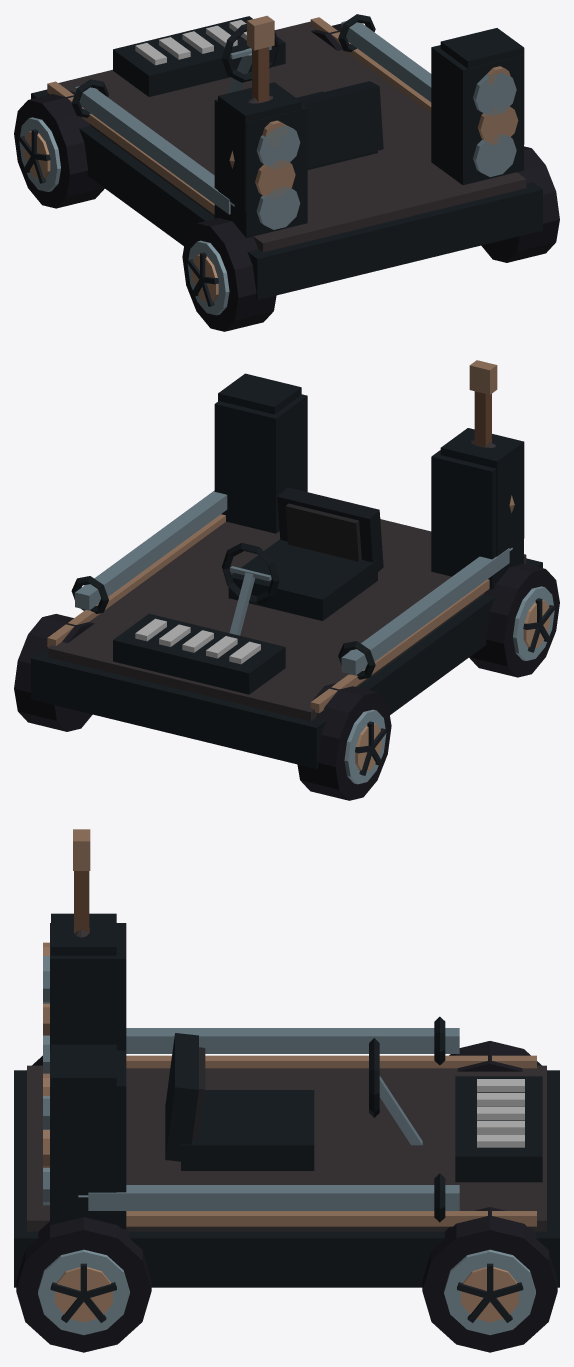
File: kart.glb
3 views of the same model, one above another, from view 1: azimuth 30°, elevation 25°; view 2: azimuth 150°, elevation 25°; view 3: azimuth 270°, elevation 25° (orthographic). The views are drawn at different scales.
Visible parts, largest first — view 1: identity-stage-stage-platform-and-pa-towers, identity-stage-motif-speakers, identity-stage-motif-pipes, wheel-rear-left, wheel-front-left, identity-stage-driver-cockpit, wheel-rear-right, identity-stage-motif-guitar; view 2: identity-stage-stage-platform-and-pa-towers, identity-stage-driver-cockpit, identity-stage-motif-pipes, wheel-front-left, wheel-rear-left, identity-stage-motif-speakers, wheel-front-right, identity-stage-motif-guitar; view 3: identity-stage-stage-platform-and-pa-towers, identity-stage-motif-pipes, identity-stage-driver-cockpit, wheel-front-right, wheel-rear-right, identity-stage-motif-speakers, identity-stage-motif-guitar, wheel-front-left.
Boxes of the visible parts, <box> form: identity-stage-stage-platform-and-pa-towers: <box>31,16,542,299</box>; identity-stage-motif-speakers: <box>218,28,524,212</box>; identity-stage-motif-pipes: <box>71,14,431,214</box>; wheel-rear-left: <box>182,218,276,331</box>; wheel-front-left: <box>14,91,104,208</box>; identity-stage-driver-cockpit: <box>222,24,383,169</box>; wheel-rear-right: <box>481,146,559,262</box>; identity-stage-motif-guitar: <box>229,15,274,168</box>; identity-stage-stage-platform-and-pa-towers: <box>31,394,542,768</box>; identity-stage-driver-cockpit: <box>222,487,383,635</box>; identity-stage-motif-pipes: <box>71,490,512,679</box>; wheel-front-left: <box>297,683,391,800</box>; wheel-rear-left: <box>469,563,559,677</box>; identity-stage-motif-speakers: <box>218,373,524,556</box>; wheel-front-right: <box>14,614,94,731</box>; identity-stage-motif-guitar: <box>469,360,514,512</box>; identity-stage-stage-platform-and-pa-towers: <box>14,923,559,1287</box>; identity-stage-motif-pipes: <box>78,1016,459,1222</box>; identity-stage-driver-cockpit: <box>165,1033,422,1170</box>; wheel-front-right: <box>422,1207,557,1352</box>; wheel-rear-right: <box>16,1217,151,1352</box>; identity-stage-motif-speakers: <box>43,913,116,1194</box>; identity-stage-motif-guitar: <box>73,829,90,937</box>; wheel-front-left: <box>449,1041,541,1071</box>.
Bounding box in the file's own units: 2.16 × 1.8 × 2.5.
